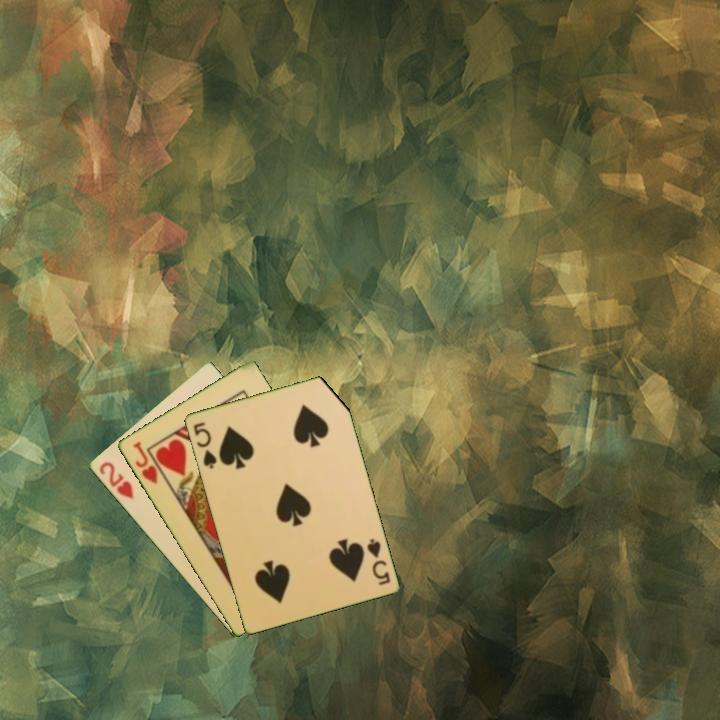2h: (95, 458, 136, 502)
5s: (189, 418, 219, 472), (363, 535, 393, 588)
Jh: (129, 438, 169, 487)
